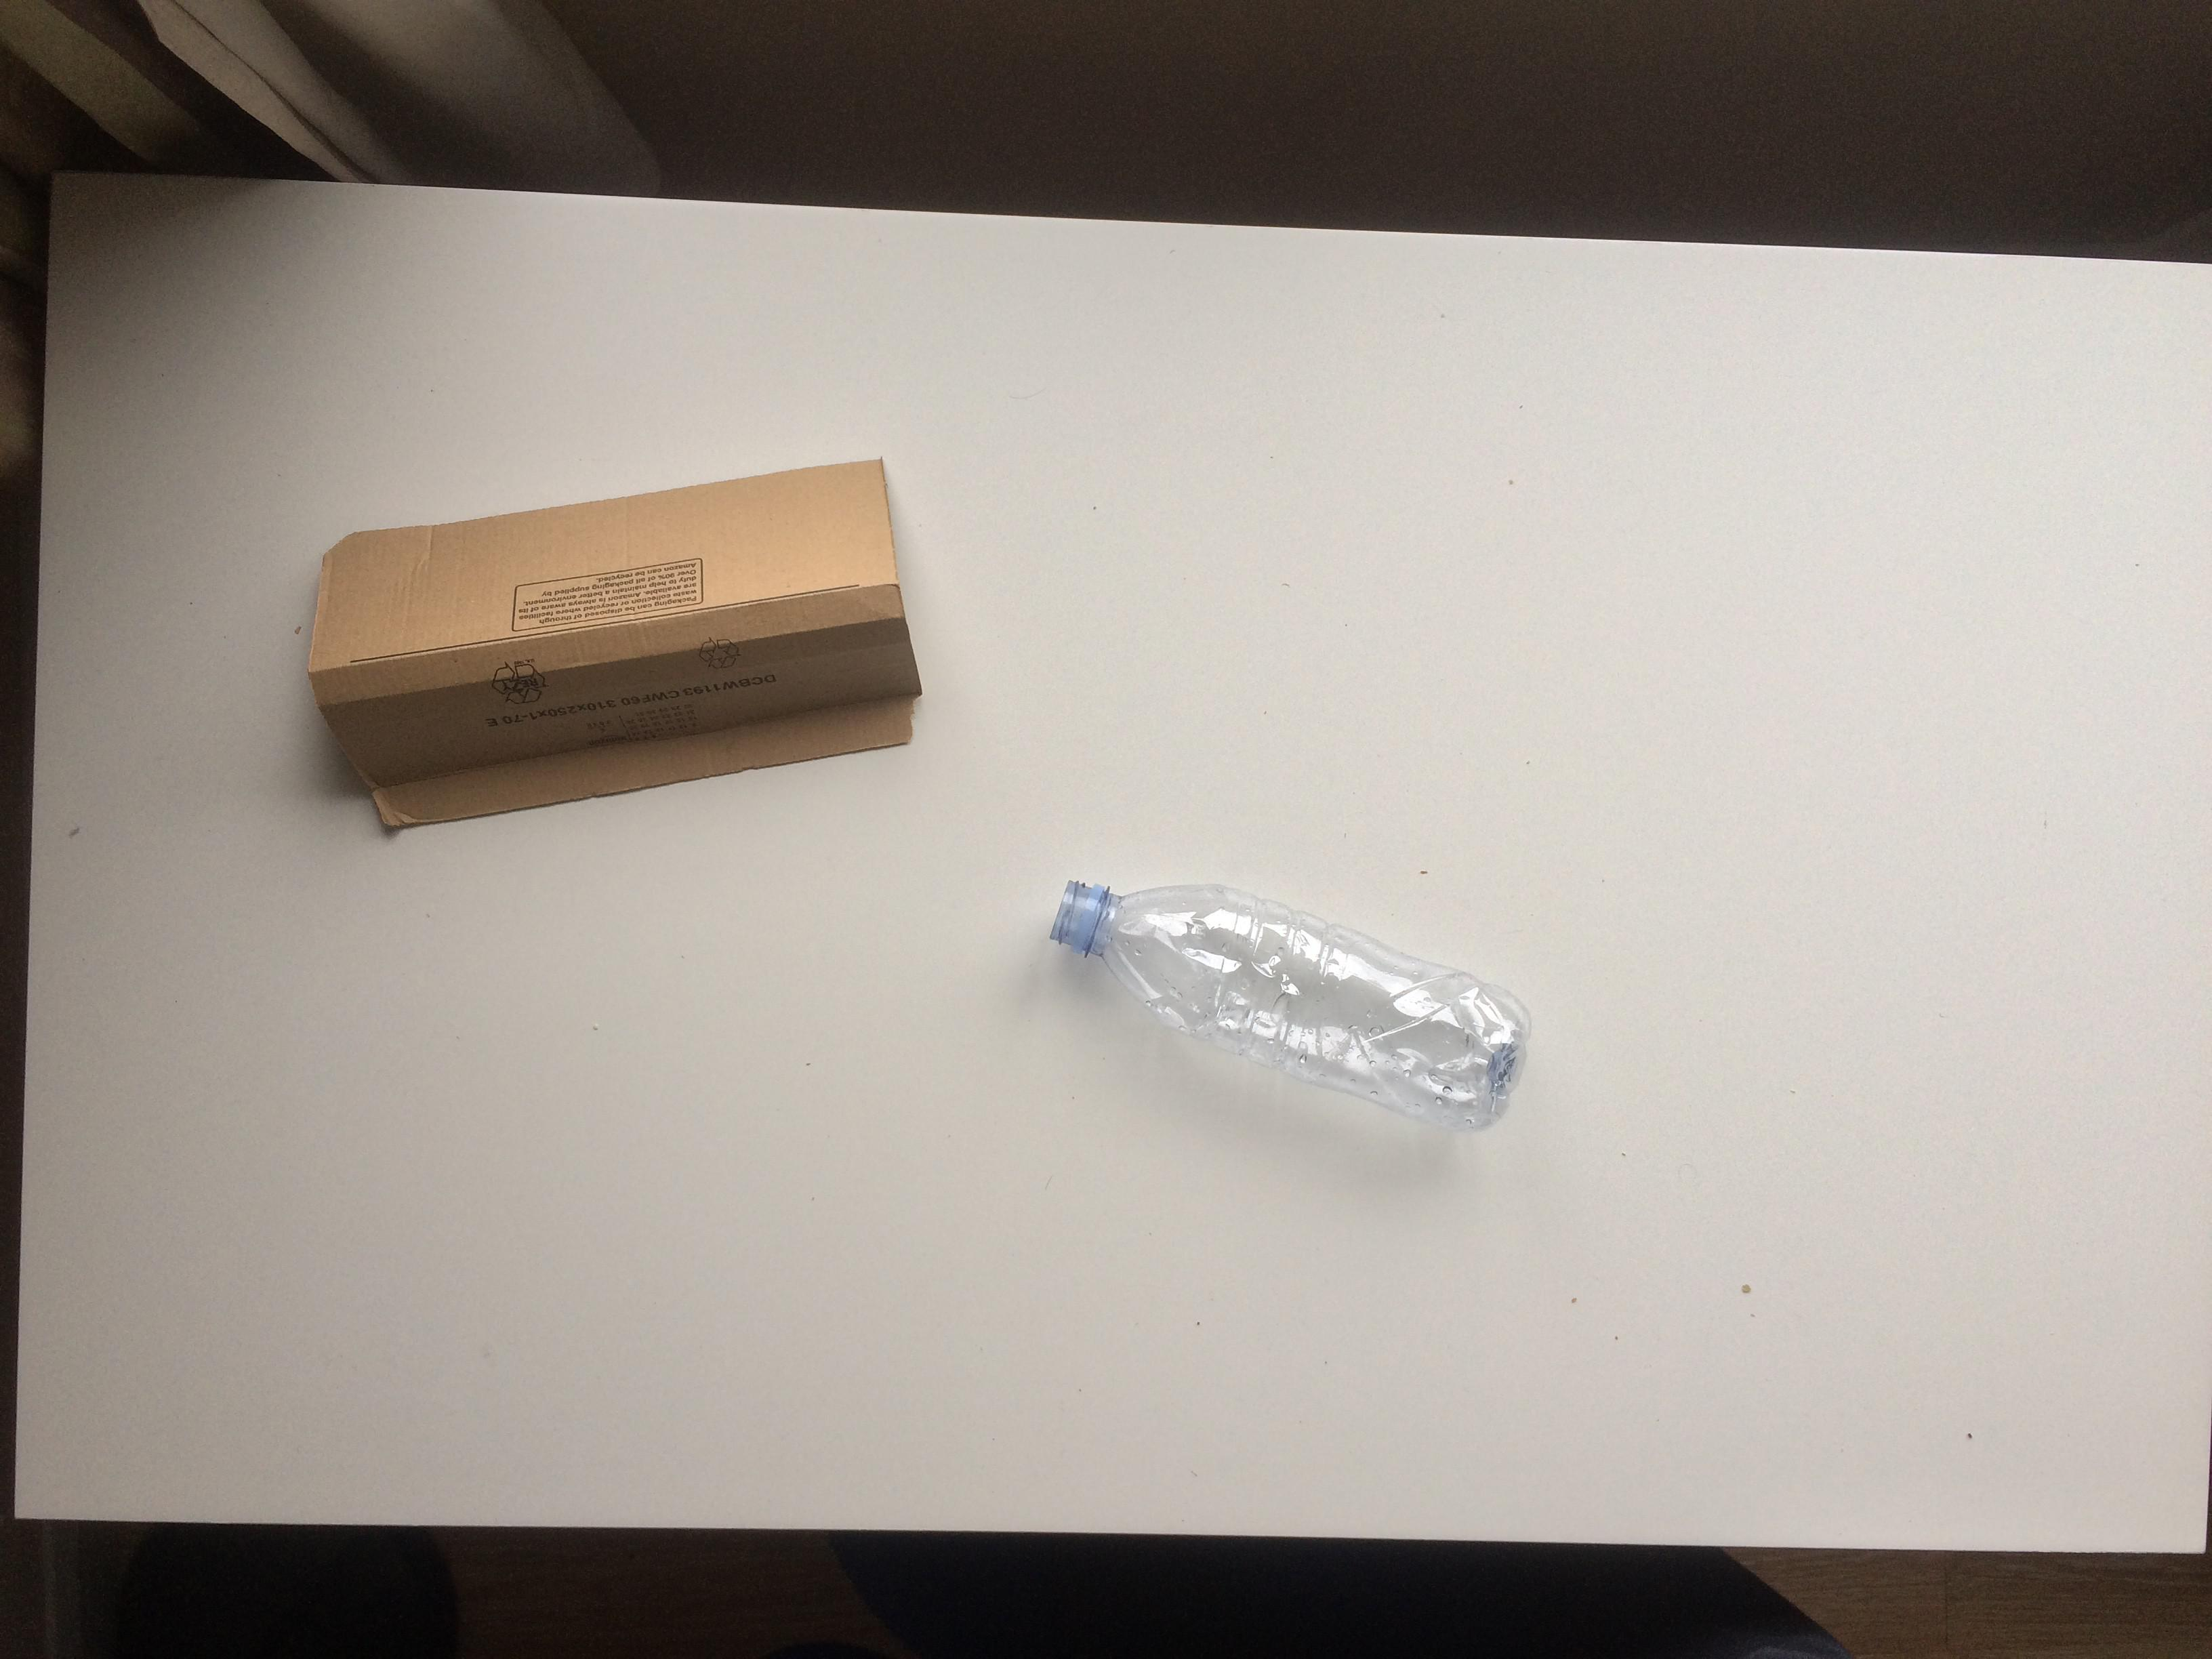Trash: (312, 460, 928, 838), (1042, 871, 1534, 1133)
